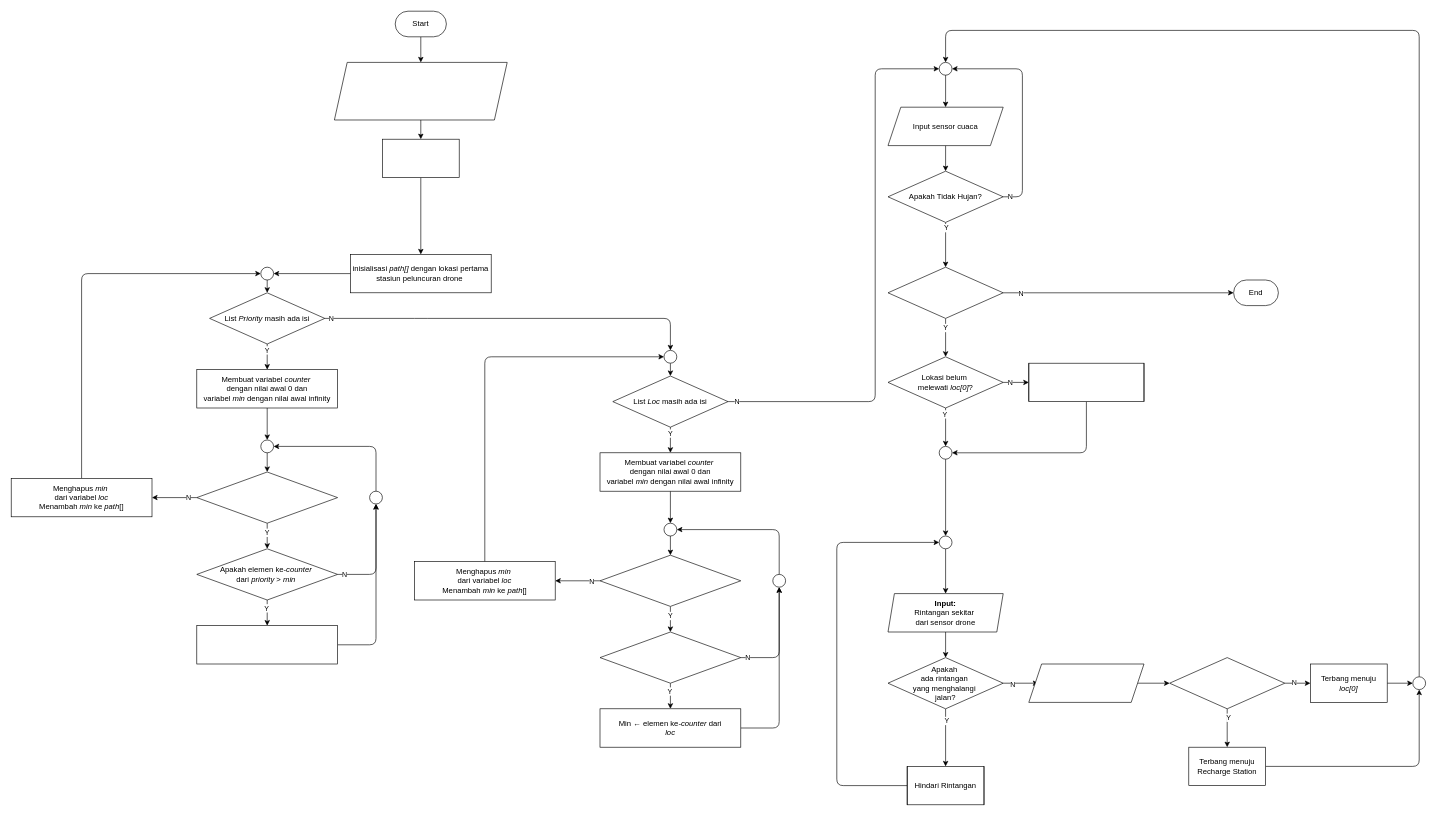
This 1437x816 diagram has some shape labels left out. Each missing label, with the centre of its shape:
Apakah Baterai < 20%: point (1227, 683)
Apakah counter < panjang loc: point (670, 580)
Apakah counter < panjang priority: point (267, 497)
Apakah elemen ke- counter dari loc > min: point (670, 657)
Hilangkan loc[0] dan jadikan loc[n+1] menjadi loc[n]: point (1086, 382)
Input: Level Baterai: point (1086, 682)
Input: loc[]: list lokasi setiap antar priority[]: list lokasi prioritas: point (420, 91)
Masih ada lokasi di variabel loc ?: point (945, 292)
Membuat variabel path[]: point (420, 158)
Min ← elemen ke- counter dari priority: point (267, 644)
